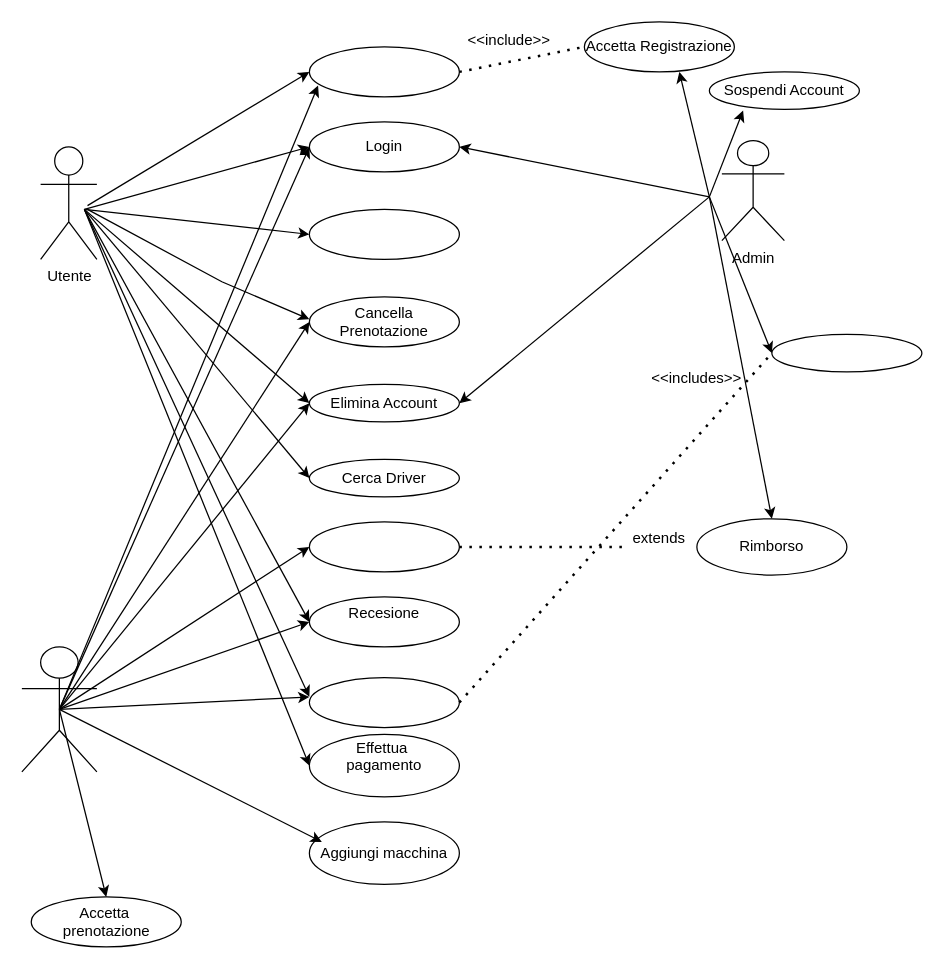
This 944x969 diagram has some shape labels left out. Each missing label, with the box of its shape:
Accetta modificazione: (771, 333, 922, 372)
Driver: (21, 646, 97, 772)
Modifica Account: (308, 676, 459, 728)
Prenota: (308, 208, 459, 259)
Registra: (308, 46, 459, 97)
Segnalazione problemi: (308, 521, 459, 572)
